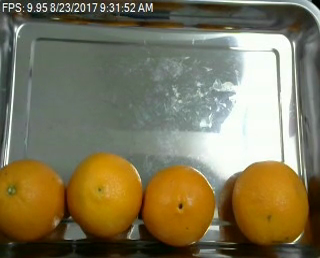Orange: (232, 160, 310, 244), (67, 152, 143, 235), (139, 165, 215, 245), (1, 159, 67, 240)
